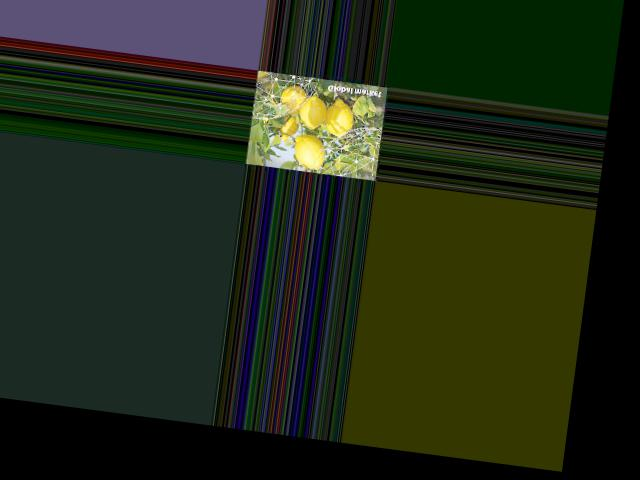lemon: (290, 131, 328, 173)
